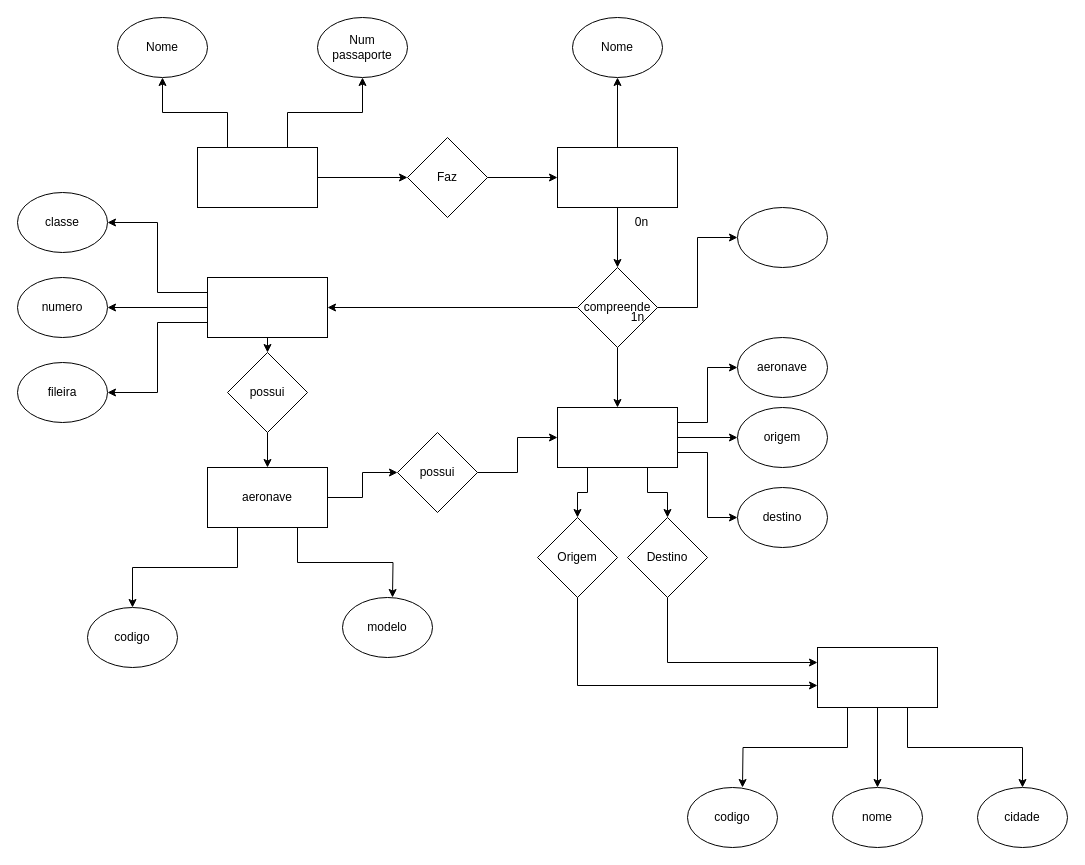
Image size: 1085x865. Some labels were removed from this diagram. Each missing label, with the box of its shape:
Aeroporto: (816, 646, 938, 708)
Assento: (206, 276, 328, 338)
data/hora: (736, 206, 828, 268)
Passageiro: (196, 146, 318, 208)
Reserva: (556, 146, 678, 208)
Trecho: (556, 406, 678, 468)
